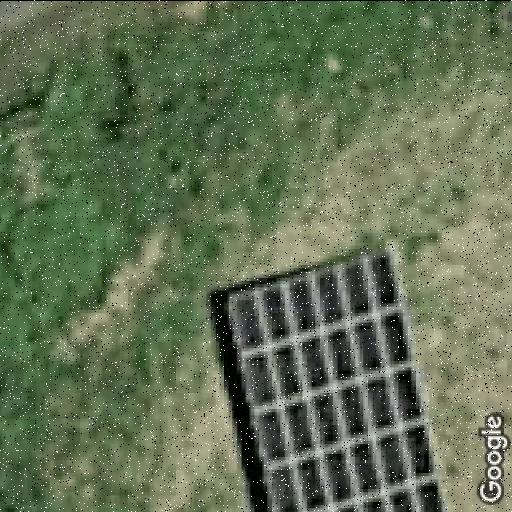solar-panel: (222, 246, 450, 512)
